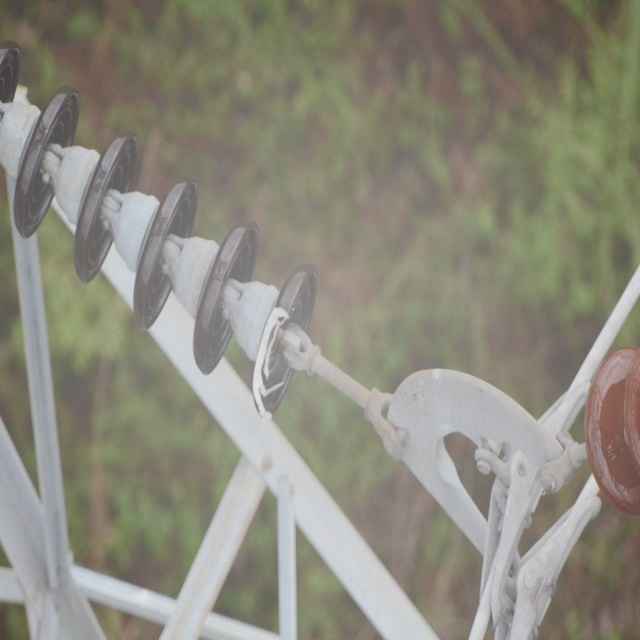broken: (251, 302, 290, 421)
insulator: (0, 40, 319, 421), (585, 343, 640, 522)
